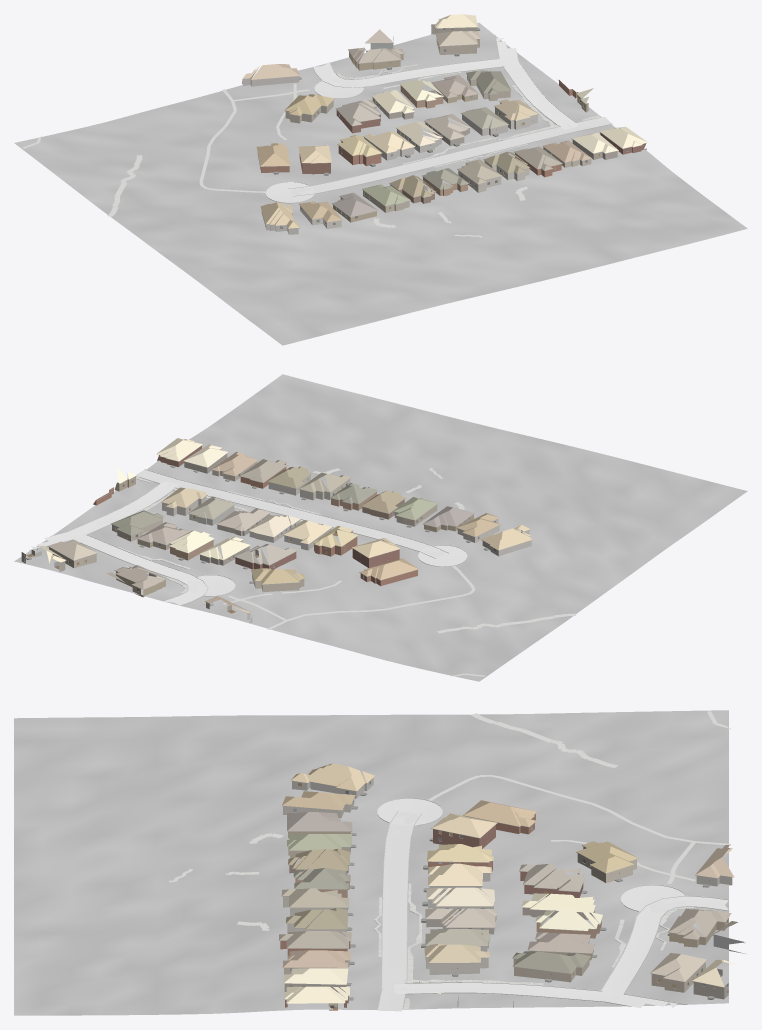
3 views of the same model, one above another, from view 1: azimuth 30°, elevation 25°; view 2: azimuth 150°, elevation 25°; view 3: azimuth 270°, elevation 25° (orthographic). The views are drawn at different scales.
Parts seen in each view (by area): view 1: ground, roof, concrete, wall, walk, wall_stucco, detail, curb, wall_stone; view 2: ground, roof, concrete, wall, walk, detail, wall_stucco, curb, wall_stone; view 3: ground, roof, concrete, wall, walk, detail, wall_stucco, curb, wall_stone.
Part boxes in pixels (box(x1,y1,x2,y2)): ground: box(14, 22, 747, 345); roof: box(242, 14, 647, 228); concrete: box(265, 38, 611, 202); wall: box(257, 24, 646, 222); walk: box(22, 64, 600, 237); wall_stucco: box(285, 36, 591, 228); detail: box(242, 25, 644, 228); curb: box(265, 35, 612, 203); wall_stone: box(242, 76, 507, 234); ground: box(14, 374, 747, 681); roof: box(40, 438, 532, 614); concrete: box(31, 469, 467, 605); wall: box(21, 446, 473, 597); walk: box(118, 468, 575, 676); detail: box(24, 441, 531, 613); wall_stucco: box(162, 461, 499, 592); curb: box(29, 469, 467, 605); wall_stone: box(189, 505, 531, 623); ground: box(14, 710, 728, 1015); roof: box(279, 763, 737, 1003); concrete: box(377, 798, 728, 1011); wall: box(280, 814, 728, 1007); walk: box(169, 711, 731, 1008); detail: box(279, 776, 737, 1002); wall_stucco: box(283, 799, 745, 974); curb: box(374, 798, 728, 1010); wall_stone: box(292, 778, 732, 951).
Bounding box in the file's own units: 254 × 15.22 × 257.
